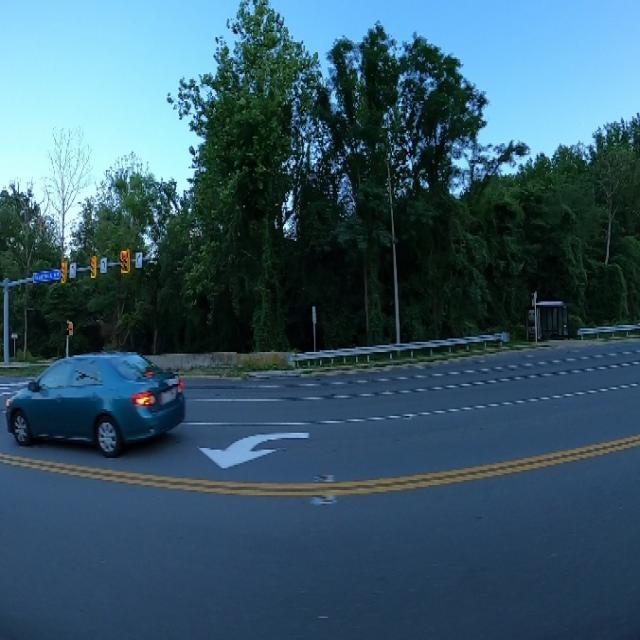car: (0, 330, 194, 460)
